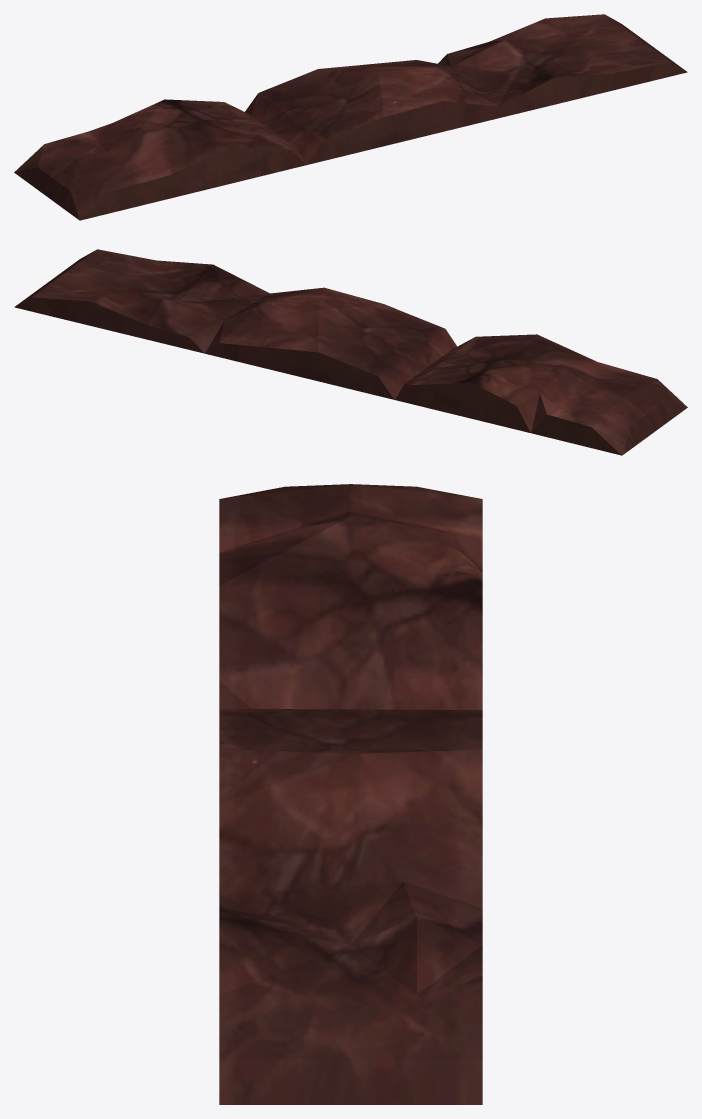
The model's file is lava_broken_straight_06.fbx.
The picture shows the model from 3 angles, top to bottom: view 1: azimuth 30°, elevation 25°; view 2: azimuth 150°, elevation 25°; view 3: azimuth 270°, elevation 25°; orthographic projection. The views are drawn at different scales.
Visible parts, largest first — view 1: obj1.061; view 2: obj1.061; view 3: obj1.061.
Part boxes in pixels (x1,y1,x2,y2): obj1.061: [14, 14, 687, 220]; obj1.061: [14, 249, 687, 455]; obj1.061: [219, 484, 482, 1104].
Size of the model in its own units: 4 by 0.2624 by 0.75.
